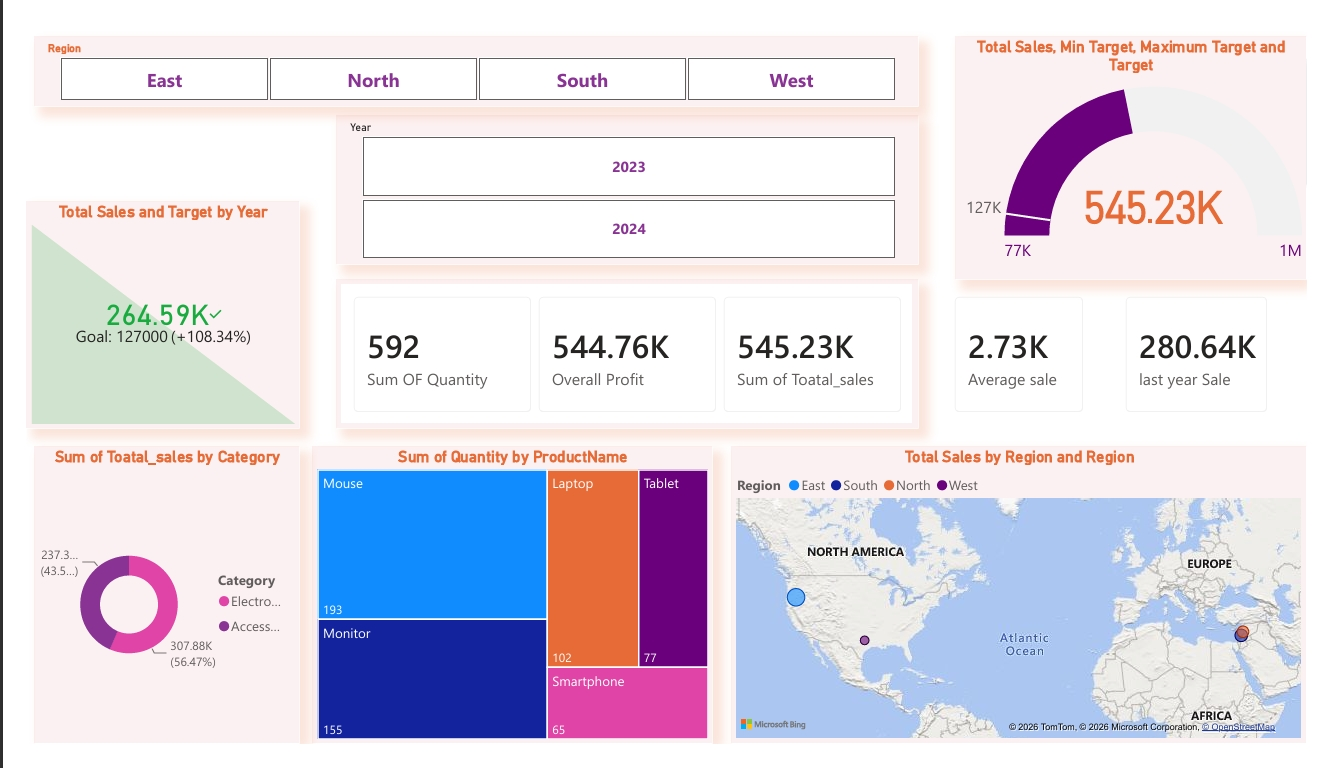

This screenshot's page, from the dashboard's own definition file:
{"tool":"powerbi","page":{"name":"Page 2","canvas":[1280,720],"ordinal":1},"visuals":[{"type":"donutChart","fields":{"Category":["Dim_Products.Category"],"Y":["Sum(Fact_Sales.Toatal_sales)"]},"box":[8.2,422.6,264.8,297.4],"z":0},{"type":"treemap","fields":{"Group":["Dim_Products.ProductName"],"Values":["Sum(Fact_Sales.Quantity)"]},"box":[285.6,422.6,399.9,297.4],"z":1000},{"type":"map","fields":{"Category":["Dim_Customers.Region"],"Series":["Dim_Customers.Region"],"Size":["Fact_Sales.Total Sales"]},"box":[705.5,422.6,574.9,297.4],"z":2000},{"type":"kpi","fields":{"Goal":["Fact_Sales.Target"],"Indicator":["Fact_Sales.Total Sales"],"TrendLine":["Dim_Date.Year"]},"box":[0,177.7,272.9,227.6],"z":3000},{"type":"cardVisual","fields":{"Data":["Fact_Sales.Sum OF Quantity","Fact_Sales.Overall Profit","Sum(Fact_Sales.Toatal_sales)"]},"box":[310.1,255.7,582.2,149.6],"z":4000},{"type":"cardVisual","fields":{"Data":["Fact_Sales.last year Sale"]},"box":[1081.8,255.7,175.9,149.6],"z":5000},{"type":"cardVisual","fields":{"Data":["Fact_Sales.Average sale"]},"box":[911.3,255.7,162.3,149.6],"z":6000},{"type":"gauge","fields":{"MaxValue":["Fact_Sales.Maximum Target"],"MinValue":["Fact_Sales.Min Target"],"TargetValue":["Fact_Sales.Target"],"Y":["Fact_Sales.Total Sales"]},"box":[929.5,12.7,350.9,243],"z":7000},{"type":"slicer","fields":{"Values":["Dim_Customers.Region"]},"box":[8.2,12.7,884.1,70.7],"z":8000},{"type":"slicer","fields":{"Values":["Dim_Date.Year"]},"box":[310.1,91.6,582.2,149.6],"z":9000}]}

Visuals, with their boxes in screenshot pixels (x1, y1, x2, y2), scaled from the page's 1280x720 canvas onto the 1329x768 screenshot:
donutChart - Dim_Products.Category x Sum(Fact_Sales.Toatal_sales): {"left": 9, "top": 451, "right": 283, "bottom": 767}
treemap - Dim_Products.ProductName x Sum(Fact_Sales.Quantity): {"left": 297, "top": 451, "right": 712, "bottom": 767}
map - Dim_Customers.Region x Dim_Customers.Region: {"left": 733, "top": 451, "right": 1328, "bottom": 767}
kpi - Fact_Sales.Target x Fact_Sales.Total Sales: {"left": 0, "top": 190, "right": 283, "bottom": 432}
cardVisual - Fact_Sales.Sum OF Quantity x Fact_Sales.Overall Profit: {"left": 322, "top": 273, "right": 926, "bottom": 432}
cardVisual - Fact_Sales.last year Sale: {"left": 1123, "top": 273, "right": 1306, "bottom": 432}
cardVisual - Fact_Sales.Average sale: {"left": 946, "top": 273, "right": 1115, "bottom": 432}
gauge - Fact_Sales.Maximum Target x Fact_Sales.Min Target: {"left": 965, "top": 14, "right": 1328, "bottom": 273}
slicer - Dim_Customers.Region: {"left": 9, "top": 14, "right": 926, "bottom": 89}
slicer - Dim_Date.Year: {"left": 322, "top": 98, "right": 926, "bottom": 257}
